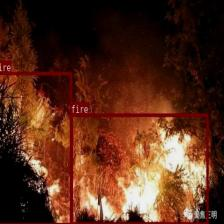fire: (70, 112, 207, 224), (0, 71, 71, 223)
